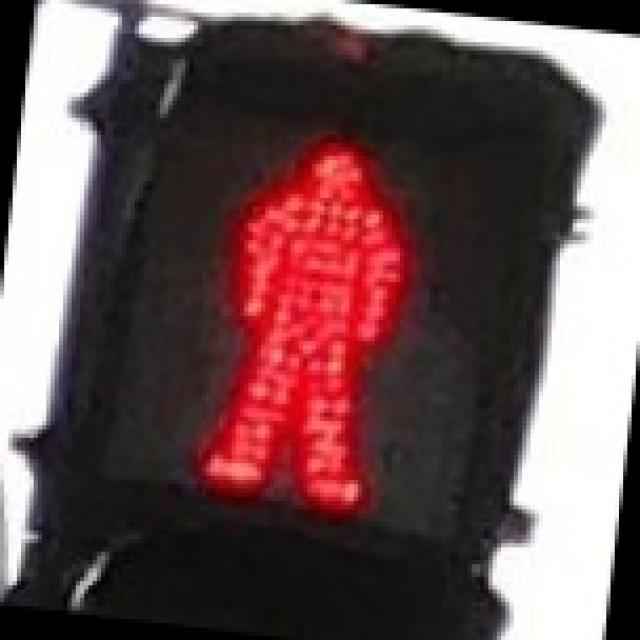red-crossing: (97, 80, 530, 548)
